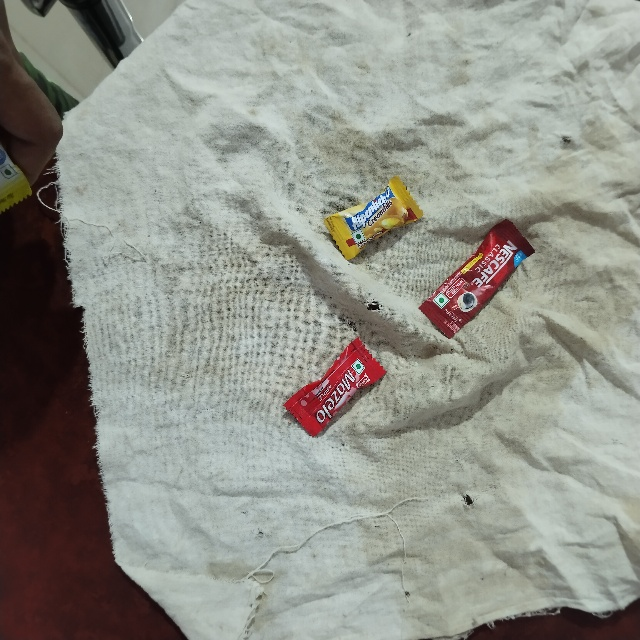Alpenlibe Creamfills: (316, 221, 414, 275)
Mazelo: (280, 414, 389, 462)
Nescafe Coffee: (414, 310, 546, 364)
